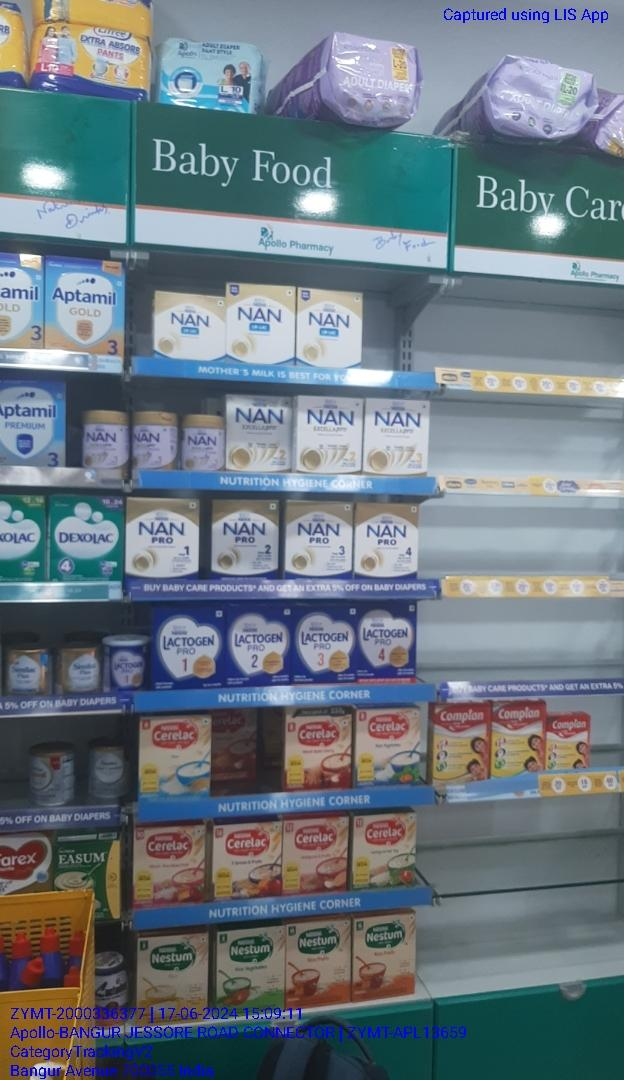COMPLAN_CHOCOLATE_200_GMS_PACK: (547, 718, 588, 773)
COMPLAN_CREAMY_CLASSIC_500_G_PACK: (492, 702, 544, 772)
COMPLAN_KESAR_BADAM_500_GMS_PACK: (434, 706, 488, 786)
